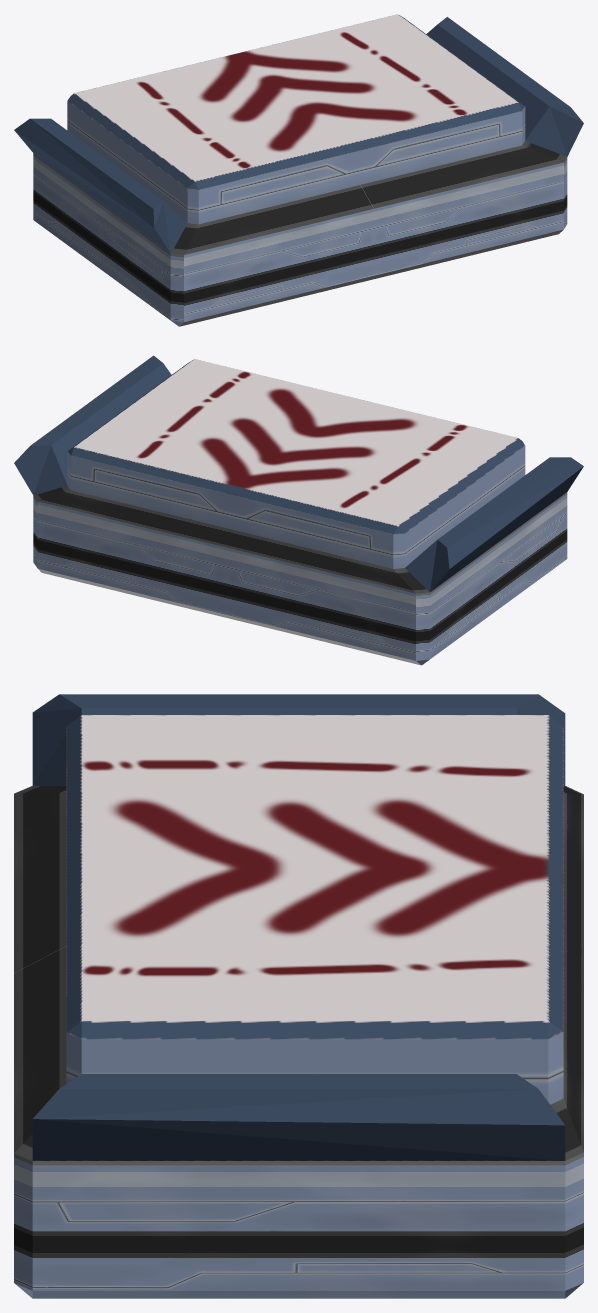
File: Entregas.fbx
3 views of the same model, one above another, from view 1: azimuth 30°, elevation 25°; view 2: azimuth 150°, elevation 25°; view 3: azimuth 270°, elevation 25° (orthographic). The views are drawn at different scales.
Parts seen in each view (by area): view 1: Entregas; view 2: Entregas; view 3: Entregas.
Boxes of the visible parts, left/top/right/bottom form: Entregas: left=14, top=14, right=583, bottom=326; Entregas: left=14, top=355, right=583, bottom=665; Entregas: left=14, top=694, right=583, bottom=1298.
Size of the model in its own units: 1600 by 454 by 936.
